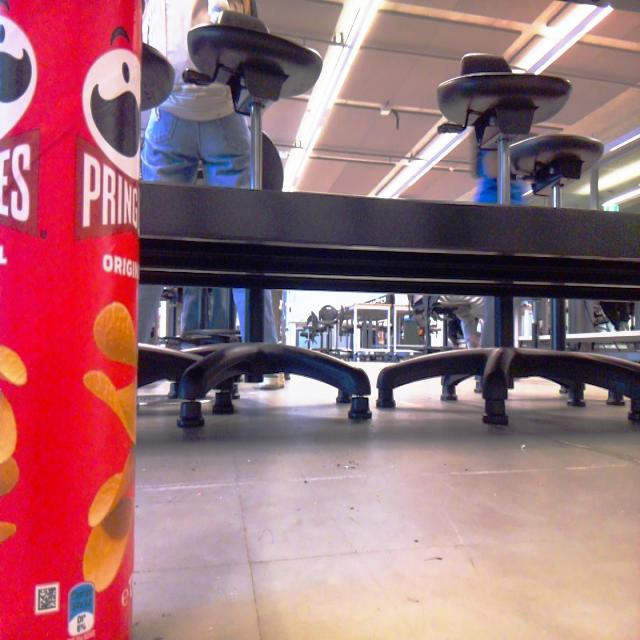redpringles: (4, 0, 158, 640)
